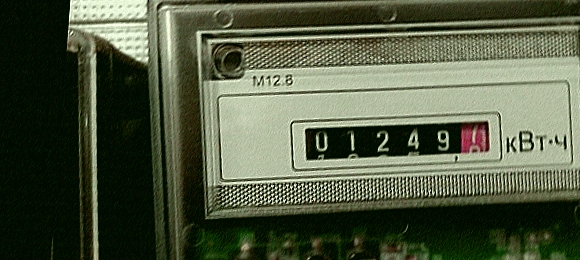0: (308, 126, 329, 153)
1: (340, 128, 357, 154)
2: (370, 128, 392, 155)
4: (403, 124, 423, 153)
7: (463, 121, 480, 146)
9: (432, 127, 451, 153)
screen: (278, 99, 517, 192)
